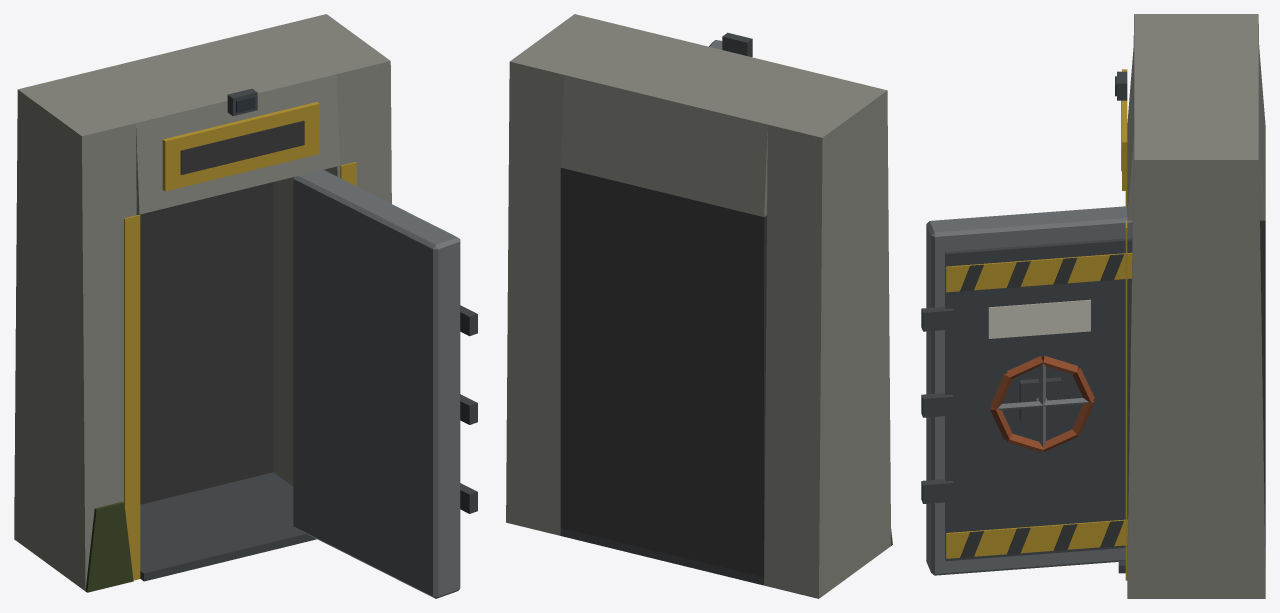
The model's file is armoury_bunker_door_open.glb.
The picture shows the model from 3 angles, left to right: view 1: azimuth 30°, elevation 25°; view 2: azimuth 150°, elevation 25°; view 3: azimuth 270°, elevation 25°; orthographic projection. The views are drawn at different scales.
Parts seen in each view (by area): view 1: armoury_bunker_door_open_mesh; view 2: armoury_bunker_door_open_mesh; view 3: armoury_bunker_door_open_mesh.
Part boxes in pixels (<box>): armoury_bunker_door_open_mesh: <box>14,14,477,598</box>; armoury_bunker_door_open_mesh: <box>506,14,892,598</box>; armoury_bunker_door_open_mesh: <box>921,14,1265,598</box>.
Bounding box in the file's own units: 2 × 2.86 × 1.99.
